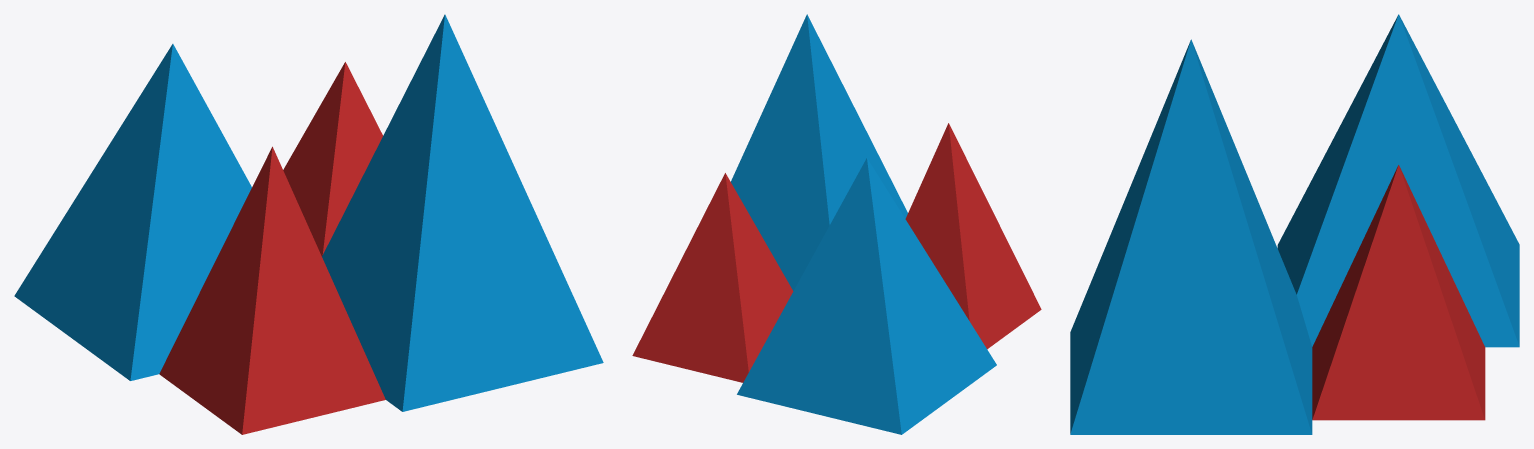
Rendered from World_5_Spikes.fbx.
3 views of the same model, side by side, from view 1: azimuth 30°, elevation 25°; view 2: azimuth 150°, elevation 25°; view 3: azimuth 270°, elevation 25° (orthographic). The views are drawn at different scales.
Visible parts, largest first — view 1: Glass_Spike_1, Glass_Spike_2, Glass_Spike_3, Glass_Spike_4; view 2: Glass_Spike_2, Glass_Spike_1, Glass_Spike_4, Glass_Spike_3; view 3: Glass_Spike_1, Glass_Spike_2, Glass_Spike_4.
Part boxes in pixels (x1,y1,x2,y2): Glass_Spike_1: [322, 14, 603, 411]; Glass_Spike_2: [14, 44, 251, 380]; Glass_Spike_3: [159, 146, 385, 434]; Glass_Spike_4: [283, 62, 382, 256]; Glass_Spike_2: [737, 158, 996, 434]; Glass_Spike_1: [731, 14, 907, 290]; Glass_Spike_4: [632, 173, 793, 382]; Glass_Spike_3: [905, 123, 1041, 349]; Glass_Spike_1: [1070, 39, 1312, 434]; Glass_Spike_2: [1277, 14, 1519, 347]; Glass_Spike_4: [1312, 165, 1485, 420].
Size of the model in its own units: 81.25 by 68.75 by 81.25.
2 materials, 2 textured.
